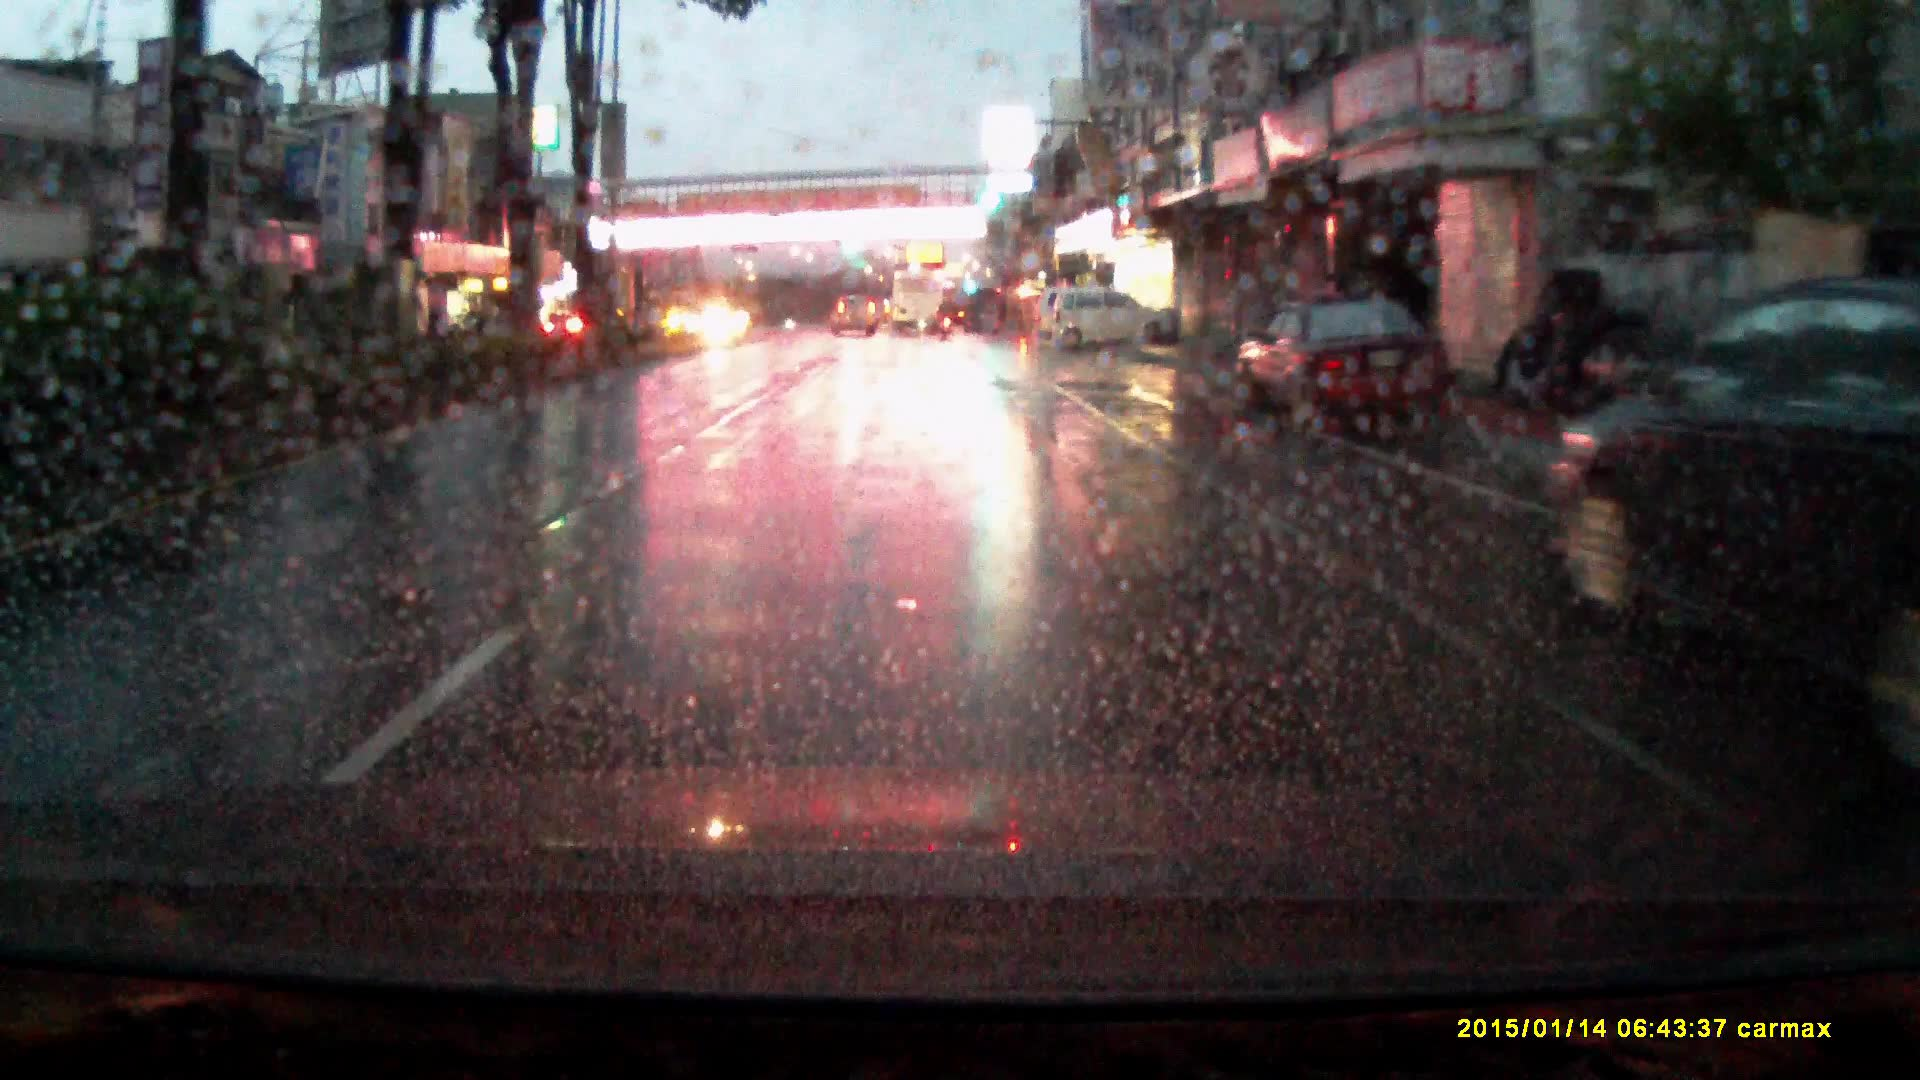vehicle: (1543, 307, 1920, 724), (1240, 301, 1462, 440), (1054, 287, 1178, 355), (891, 272, 945, 334), (1033, 287, 1071, 340), (833, 295, 880, 338)
